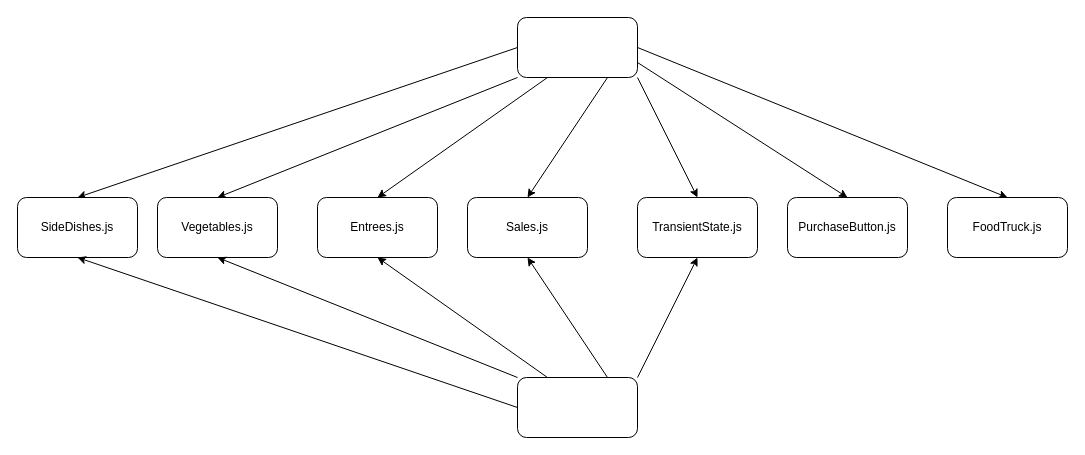
Image size: 1085x455. Some labels were removed from this diagram. Each missing label, with the centre of its shape:
"database.json" belongs at pixel 577 407.
"Main.js" belongs at pixel 577 47.
